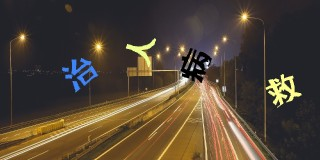人: (125, 37, 157, 68)
救: (264, 74, 302, 108)
治: (61, 58, 100, 92)
病: (180, 47, 212, 83)
